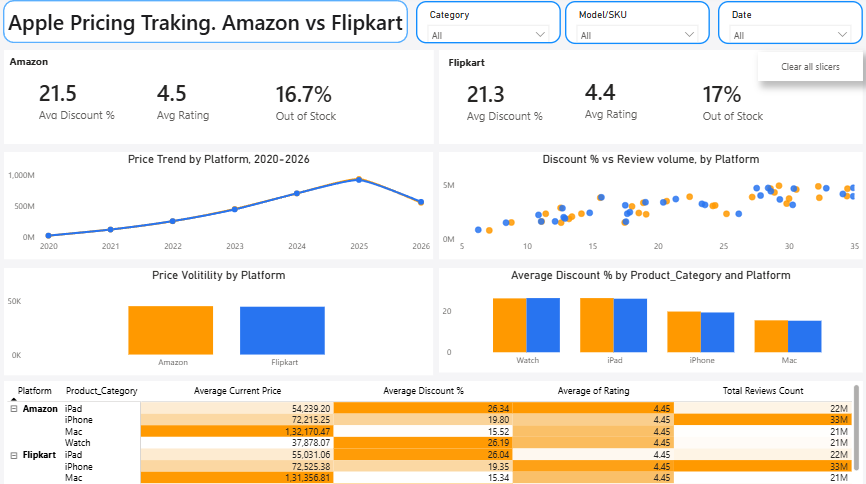

The dashboard page shown, as its layout file describes it:
{"tool":"powerbi","page":{"name":"Platform Deep-Dive","canvas":[1280,720],"ordinal":1},"visuals":[{"type":"shape","box":[8.1,6.5,592.6,63.1],"z":0},{"type":"slicer","fields":{"Values":["apple_products_pricing_2020_2026.Model_Name"]},"box":[831.7,6.7,212.1,63.1],"z":1000},{"type":"slicer","fields":{"Values":["apple_products_pricing_2020_2026.Date"]},"box":[1055,6.7,212.1,63.1],"z":2000},{"type":"slicer","fields":{"Values":["apple_products_pricing_2020_2026.Product_Category"]},"box":[613.3,6.7,211.7,61.7],"z":3000},{"type":"shape","box":[10.2,79,629.3,137.6],"z":4000},{"type":"shape","box":[646.8,79,620.5,137.6],"z":5000},{"type":"textbox","box":[13.3,80,68.3,31.7],"z":6000},{"type":"textbox","box":[655,81.7,68.3,31.7],"z":7000},{"type":"cardVisual","fields":{"Data":["apple_products_pricing_2020_2026.Avg discount Amazon"]},"box":[31.7,105,174.1,92.2],"z":8000},{"type":"cardVisual","fields":{"Data":["apple_products_pricing_2020_2026.Avg Rating Amazon"]},"box":[205,101.7,172.7,99.5],"z":9000},{"type":"cardVisual","fields":{"Data":["apple_products_pricing_2020_2026.Amazon stock Status"]},"box":[378.3,103.3,172.7,98],"z":10000},{"type":"cardVisual","fields":{"Data":["apple_products_pricing_2020_2026.Avg discount Flipkart"]},"box":[658.3,103.3,172.7,98],"z":11000},{"type":"cardVisual","fields":{"Data":["apple_products_pricing_2020_2026.Avg Rating Flipkart"]},"box":[830.8,98.3,172.7,103.9],"z":12000},{"type":"cardVisual","fields":{"Data":["apple_products_pricing_2020_2026.Flipkart Stock Status"]},"box":[1003.3,103.3,172.7,98],"z":13000},{"type":"lineChart","title":"Price Trend by Platform, 2020-2026","fields":{"Category":["apple_products_pricing_2020_2026.Year"],"Series":["apple_products_pricing_2020_2026.Platform"],"Y":["Sum(apple_products_pricing_2020_2026.Current_Price_INR)"]},"box":[10,228.3,628.3,156.7],"z":14000},{"type":"scatterChart","title":"Discount % vs Review volume, by Platform","fields":{"Category":["apple_products_pricing_2020_2026.Model_Name"],"Series":["apple_products_pricing_2020_2026.Platform"],"X":["apple_products_pricing_2020_2026.Average Discount %"],"Y":["apple_products_pricing_2020_2026.Total Reviews Count"]},"box":[646.7,228.3,620,156.7],"z":15000},{"type":"clusteredColumnChart","fields":{"Category":["apple_products_pricing_2020_2026.Platform"],"Y":["apple_products_pricing_2020_2026.Price Volitility"]},"box":[10,398.3,628.3,156.7],"z":16000},{"type":"clusteredColumnChart","fields":{"Category":["apple_products_pricing_2020_2026.Product_Category"],"Series":["apple_products_pricing_2020_2026.Platform"],"Y":["apple_products_pricing_2020_2026.Average Discount %"]},"box":[646.7,398.3,620,153.3],"z":17000},{"type":"pivotTable","fields":{"Rows":["apple_products_pricing_2020_2026.Platform","apple_products_pricing_2020_2026.Product_Category"],"Values":["apple_products_pricing_2020_2026.Average Current Price","apple_products_pricing_2020_2026.Average Discount %","Avg(apple_products_pricing_2020_2026.Rating)","apple_products_pricing_2020_2026.Total Reviews Count"]},"box":[10,563.3,1256.7,155],"z":18000},{"type":"actionButton","box":[1113.7,82,153.7,42.4],"z":18001}]}

Visuals, with their boxes in screenshot pixels (x1, y1, x2, y2), scaled from the page's 1280x720 canvas onto the 866x484 screenshot:
shape: detection(5, 4, 406, 47)
slicer - apple_products_pricing_2020_2026.Model_Name: detection(563, 5, 706, 47)
slicer - apple_products_pricing_2020_2026.Date: detection(714, 5, 857, 47)
slicer - apple_products_pricing_2020_2026.Product_Category: detection(415, 5, 558, 46)
shape: detection(7, 53, 433, 146)
shape: detection(438, 53, 857, 146)
textbox: detection(9, 54, 55, 75)
textbox: detection(443, 55, 489, 76)
cardVisual - apple_products_pricing_2020_2026.Avg discount Amazon: detection(21, 71, 139, 133)
cardVisual - apple_products_pricing_2020_2026.Avg Rating Amazon: detection(139, 68, 256, 135)
cardVisual - apple_products_pricing_2020_2026.Amazon stock Status: detection(256, 69, 373, 135)
cardVisual - apple_products_pricing_2020_2026.Avg discount Flipkart: detection(445, 69, 562, 135)
cardVisual - apple_products_pricing_2020_2026.Avg Rating Flipkart: detection(562, 66, 679, 136)
cardVisual - apple_products_pricing_2020_2026.Flipkart Stock Status: detection(679, 69, 796, 135)
"Price Trend by Platform, 2020-2026" lineChart: detection(7, 153, 432, 259)
"Discount % vs Review volume, by Platform" scatterChart: detection(438, 153, 857, 259)
clusteredColumnChart - apple_products_pricing_2020_2026.Platform x apple_products_pricing_2020_2026.Price Volitility: detection(7, 268, 432, 373)
clusteredColumnChart - apple_products_pricing_2020_2026.Product_Category x apple_products_pricing_2020_2026.Platform: detection(438, 268, 857, 371)
pivotTable - apple_products_pricing_2020_2026.Platform x apple_products_pricing_2020_2026.Product_Category: detection(7, 379, 857, 483)
actionButton: detection(753, 55, 857, 84)
